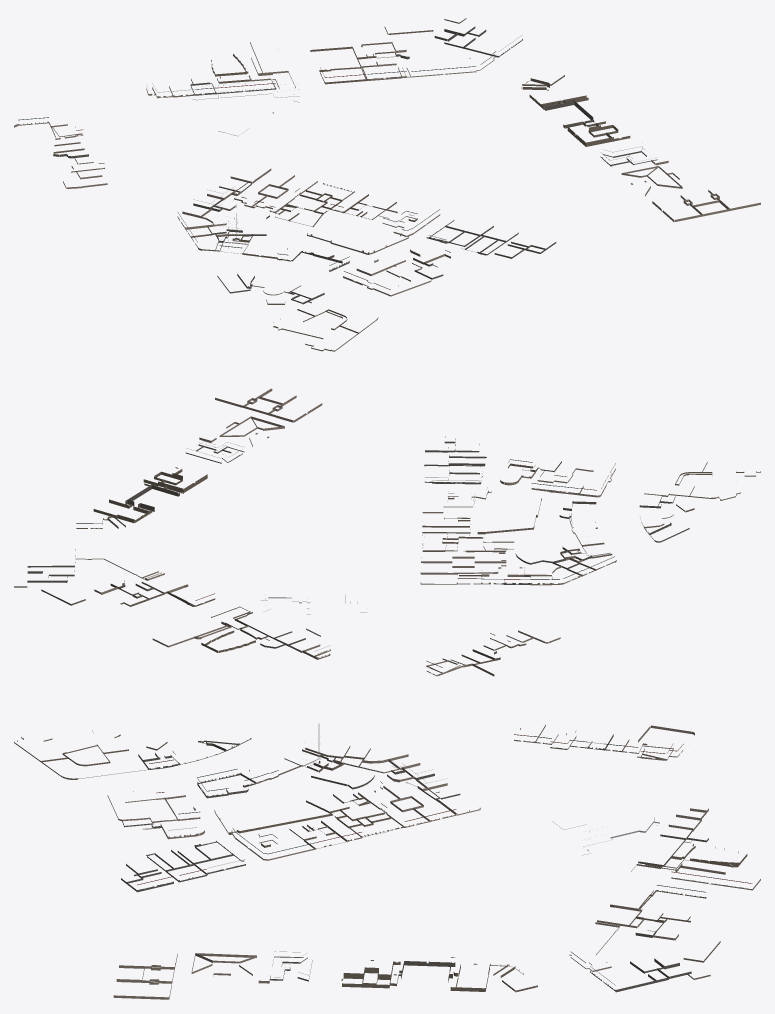
The model's file is bldg_base.glb.
3 views of the same model, one above another, from view 1: azimuth 30°, elevation 25°; view 2: azimuth 150°, elevation 25°; view 3: azimuth 270°, elevation 25° (orthographic). The views are drawn at different scales.
Visible parts, largest first — view 1: bldg_base__Facade Base #786F63; view 2: bldg_base__Facade Base #786F63; view 3: bldg_base__Facade Base #786F63.
Part boxes in pixels (x1,y1,x2,y2): bldg_base__Facade Base #786F63: (14, 18, 760, 351); bldg_base__Facade Base #786F63: (14, 388, 760, 676); bldg_base__Facade Base #786F63: (14, 723, 760, 999).
Size of the model in its own units: 357 by 28.79 by 410.
1 material, 1 textured.
